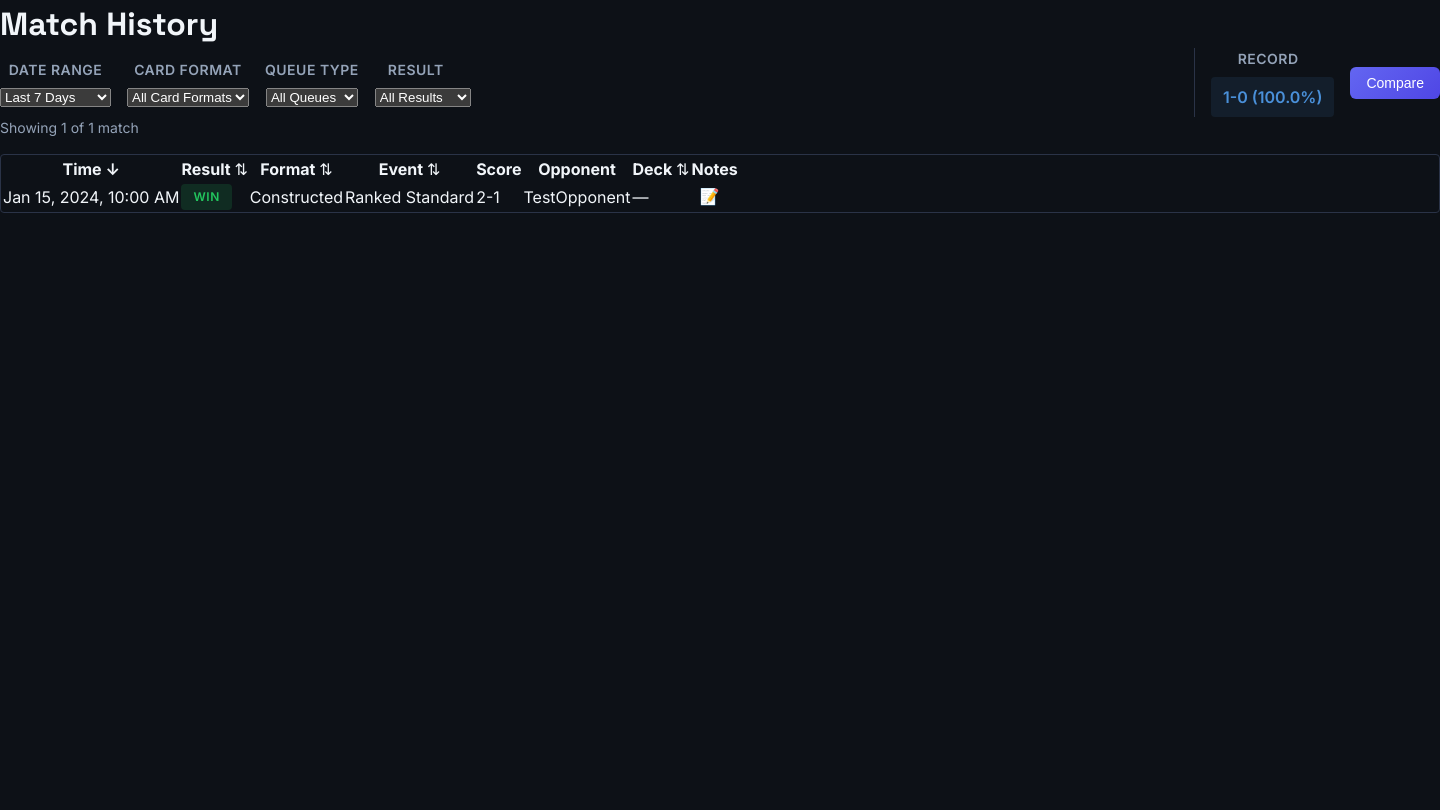
Test: MatchHistory › Match Details Modal › should open modal when clicking on a match row
Check: the text "TestOpponent" is shown, box 524,183 -> 630,210
# Click on the row
Click the text "TestOpponent" at (370,196), box 3,183 -> 738,210
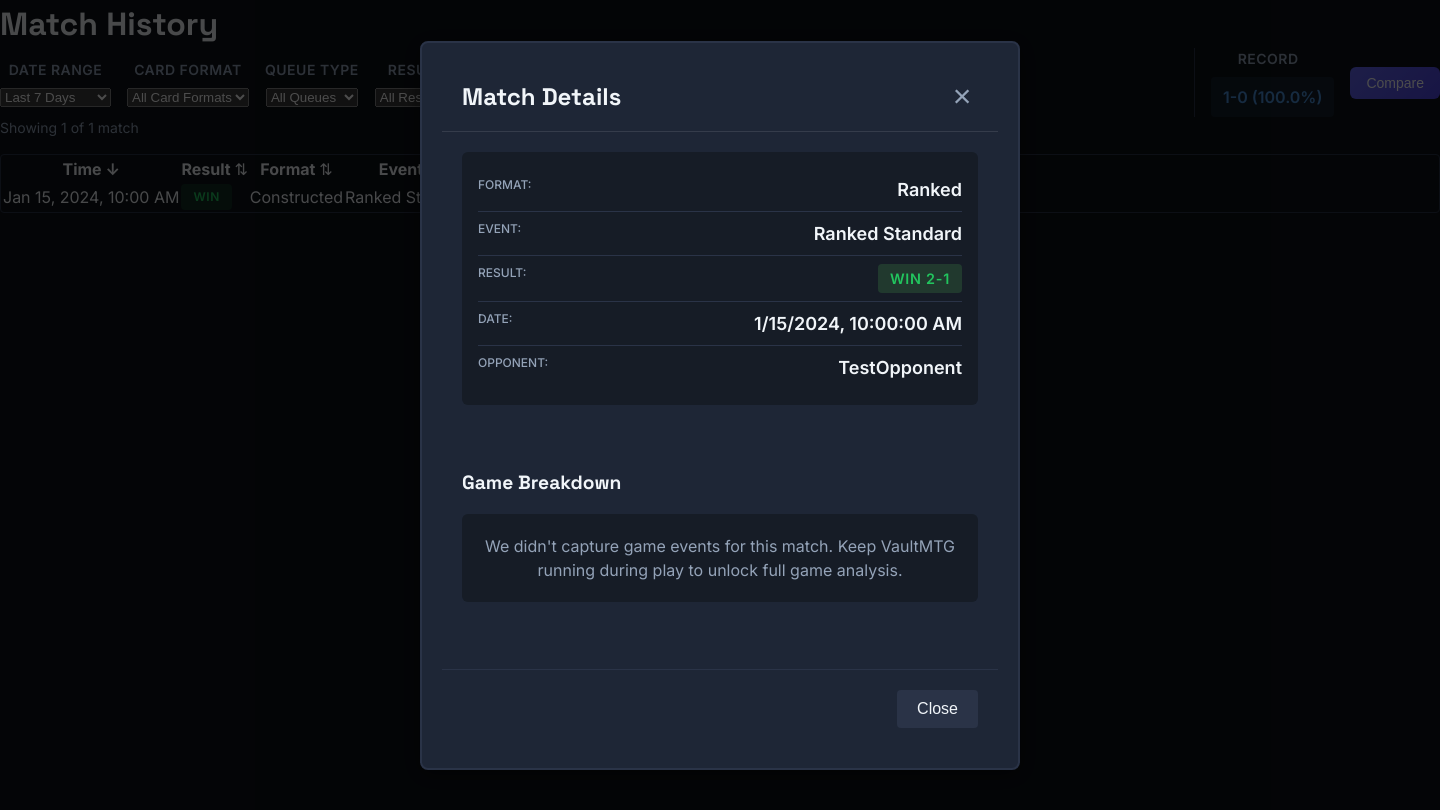
Check: the heading "Match Details" is shown, box 462,78 -> 621,114
